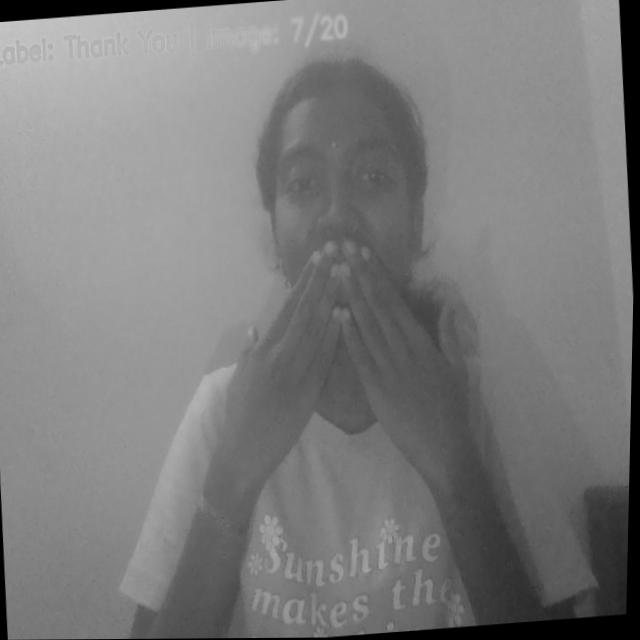Thank You: (168, 223, 500, 522)
